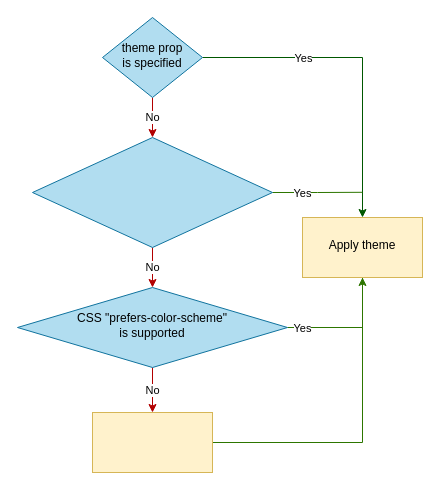
Image size: 440x490. Some labels were removed from this diagram. The centre of each missing label's shape, as x and y in pixels:
localStorage "vue-pdf-app-theme" is specified: point 152,192
Select dark theme by default: point 152,442
